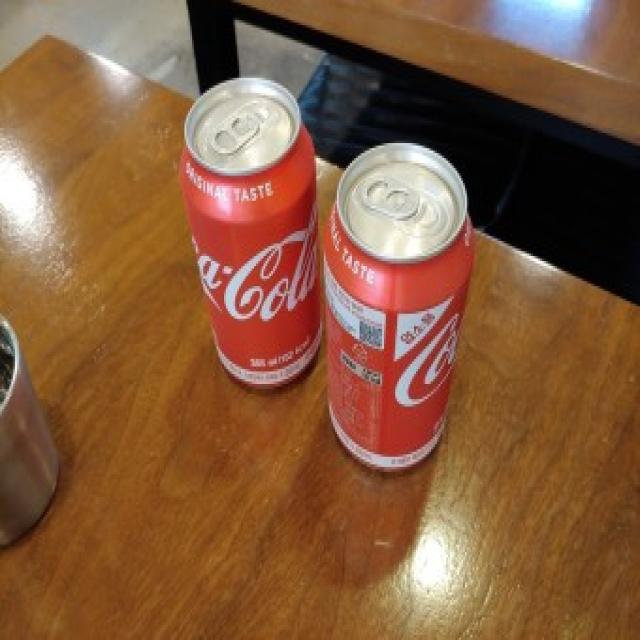can: (321, 138, 484, 475), (178, 76, 326, 396)
